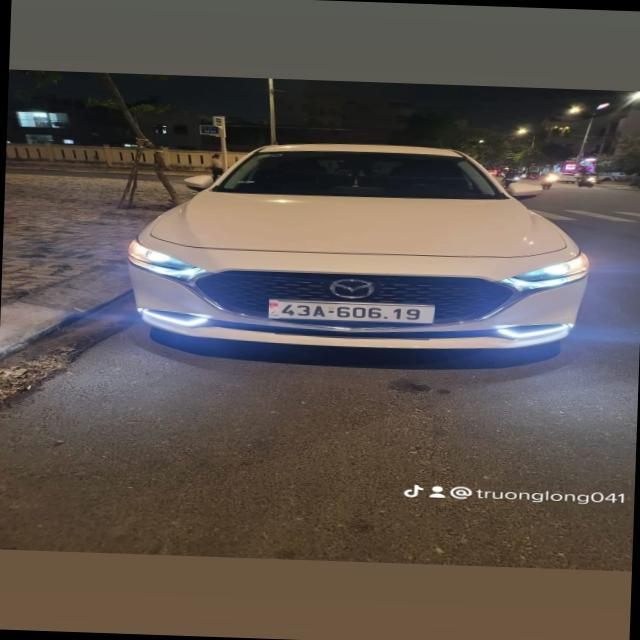car: (114, 131, 625, 374)
plate: (262, 291, 438, 333)
